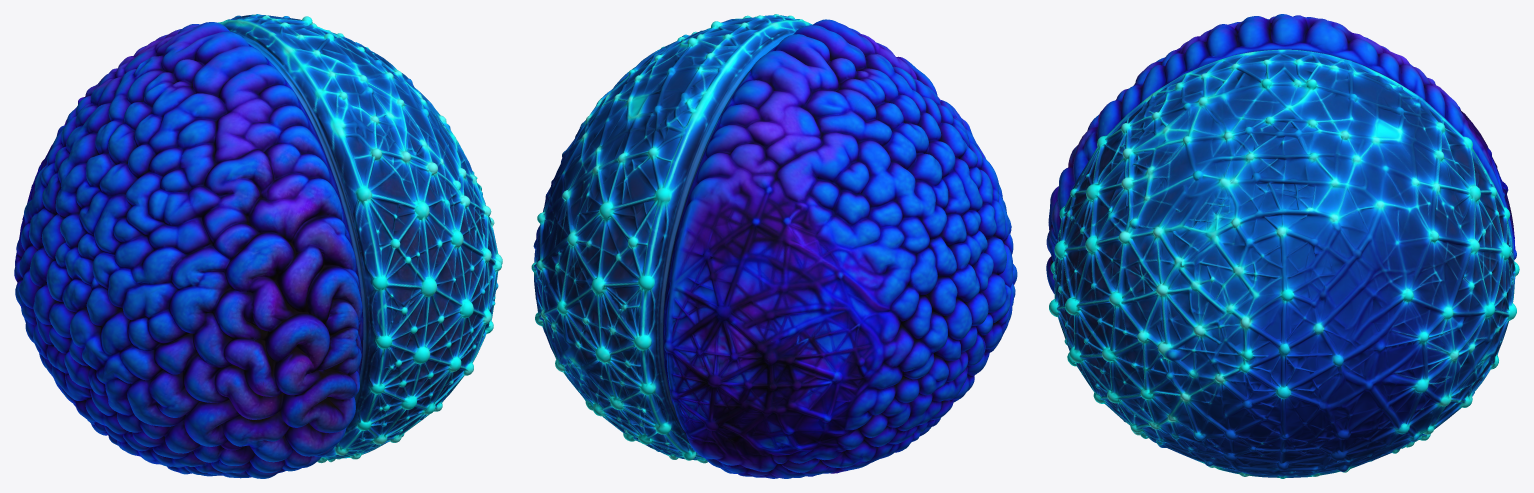
Rendered from brain-organic-digital.glb.
The picture shows the model from 3 angles, left to right: view 1: azimuth 30°, elevation 25°; view 2: azimuth 150°, elevation 25°; view 3: azimuth 270°, elevation 25°; orthographic projection.
Parts seen in each view (by area): view 1: world; view 2: world; view 3: world.
Part boxes in pixels (x1,y1,x2,y2): world: [14, 14, 502, 478]; world: [531, 14, 1017, 478]; world: [1046, 14, 1519, 478].
Size of the model in its own units: 1 by 0.9774 by 0.9999.
Materials: 1 (1 with a texture image).
